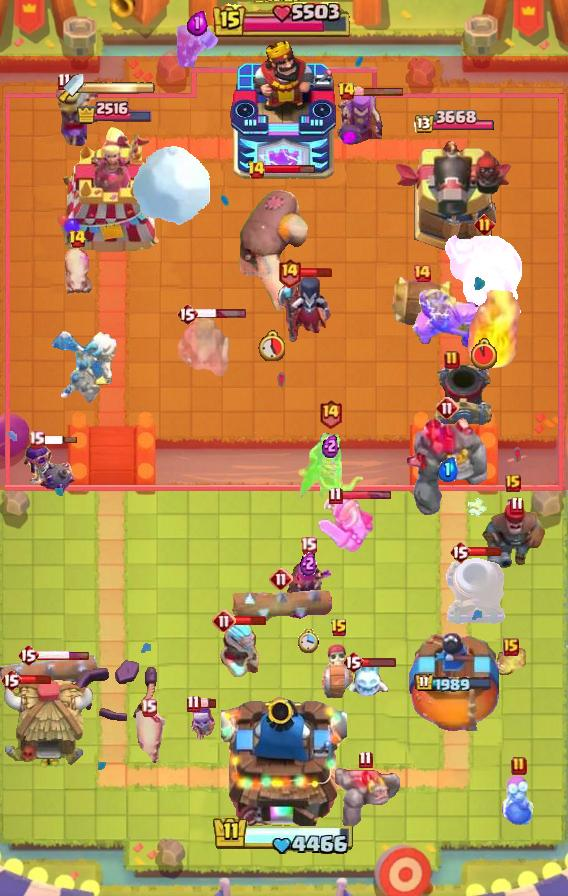archer-evolution: (282, 556, 334, 614)
bar: (36, 650, 90, 661), (263, 164, 316, 175), (340, 490, 392, 501), (195, 308, 247, 319), (353, 86, 405, 97), (361, 657, 397, 668), (18, 674, 52, 685), (233, 615, 267, 626), (468, 546, 502, 557), (299, 267, 333, 278), (42, 435, 78, 445), (198, 698, 217, 709)
bar-level: (318, 398, 343, 429), (277, 257, 302, 288), (212, 609, 236, 633), (269, 567, 293, 591), (435, 396, 459, 420), (0, 668, 22, 692), (342, 650, 364, 674), (17, 643, 39, 667), (449, 540, 471, 564), (176, 302, 198, 326), (474, 214, 495, 235), (412, 263, 432, 283), (68, 229, 87, 249), (247, 160, 266, 180), (337, 81, 356, 101), (330, 618, 348, 638), (140, 698, 157, 717), (300, 536, 317, 555), (28, 430, 45, 449), (511, 756, 527, 776), (444, 350, 460, 370), (503, 638, 519, 656), (505, 474, 521, 492), (358, 750, 373, 769), (186, 694, 201, 713), (328, 486, 343, 505), (57, 72, 72, 91)
barbarian-barrel: (385, 276, 459, 328)
barbarian-evolution: (51, 82, 101, 148)
bomber: (501, 775, 537, 827)
bomber-evolution: (21, 440, 77, 496)
cannoneer-tower: (392, 138, 514, 256)
clock: (258, 330, 285, 361), (471, 338, 497, 370), (298, 629, 319, 654)
dagger-duchess-tower: (55, 126, 173, 256)
dagger-duchess-tower-bar: (84, 81, 156, 95)
elite-barbarian: (317, 498, 377, 554)
elixir: (187, 10, 208, 36), (437, 457, 458, 482), (300, 550, 317, 576), (322, 433, 339, 458)
golemite: (330, 764, 400, 830)
hog: (131, 709, 165, 767), (61, 245, 93, 295)
hunter: (479, 494, 547, 572)
ice-spirit: (346, 662, 390, 700)
ice-wizard: (217, 617, 263, 681)
king-tower: (221, 690, 347, 826), (230, 41, 338, 181)
king-tower-bar: (212, 815, 356, 857), (213, 2, 355, 40)
lava-pup: (493, 646, 529, 678)
mortar: (432, 361, 494, 429)
mortar-evolution: (443, 557, 507, 627)
mother-witch: (333, 87, 387, 151)
night-witch: (276, 274, 334, 346)
queen-tower: (407, 633, 499, 731)
royal-ghost: (175, 313, 233, 381)
skeleton-evolution: (188, 707, 220, 747)
the-log: (230, 585, 333, 623), (0, 655, 98, 691)
tower-bar: (412, 110, 494, 136), (75, 99, 153, 125), (414, 673, 493, 694)
valkyrie: (174, 24, 220, 70)
wall-breaker: (317, 643, 361, 701)
